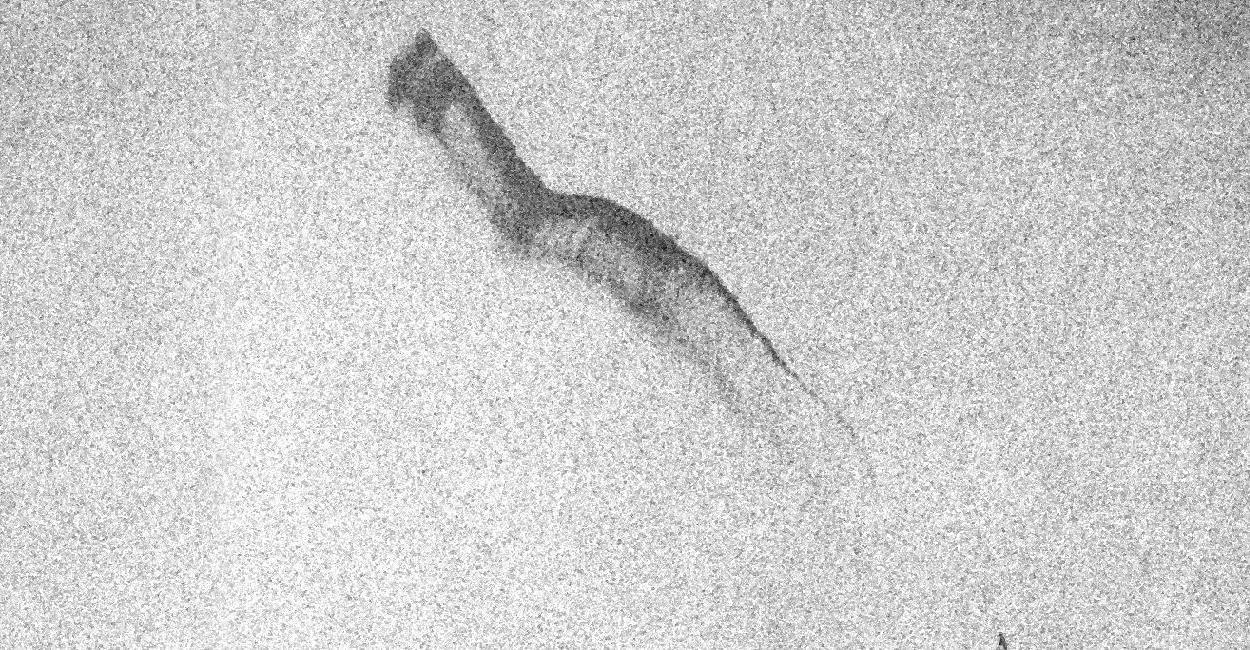Oil Spill: (378, 26, 792, 378), (457, 140, 470, 154), (696, 344, 710, 354), (574, 228, 584, 236), (572, 240, 576, 249), (682, 314, 686, 323), (464, 132, 470, 136), (486, 170, 492, 174), (548, 240, 554, 243), (662, 244, 666, 248), (662, 338, 665, 341), (624, 278, 628, 280), (552, 258, 554, 261), (584, 274, 585, 279), (506, 246, 508, 248), (457, 116, 458, 118), (696, 298, 697, 300), (692, 312, 694, 313), (678, 316, 680, 317)
